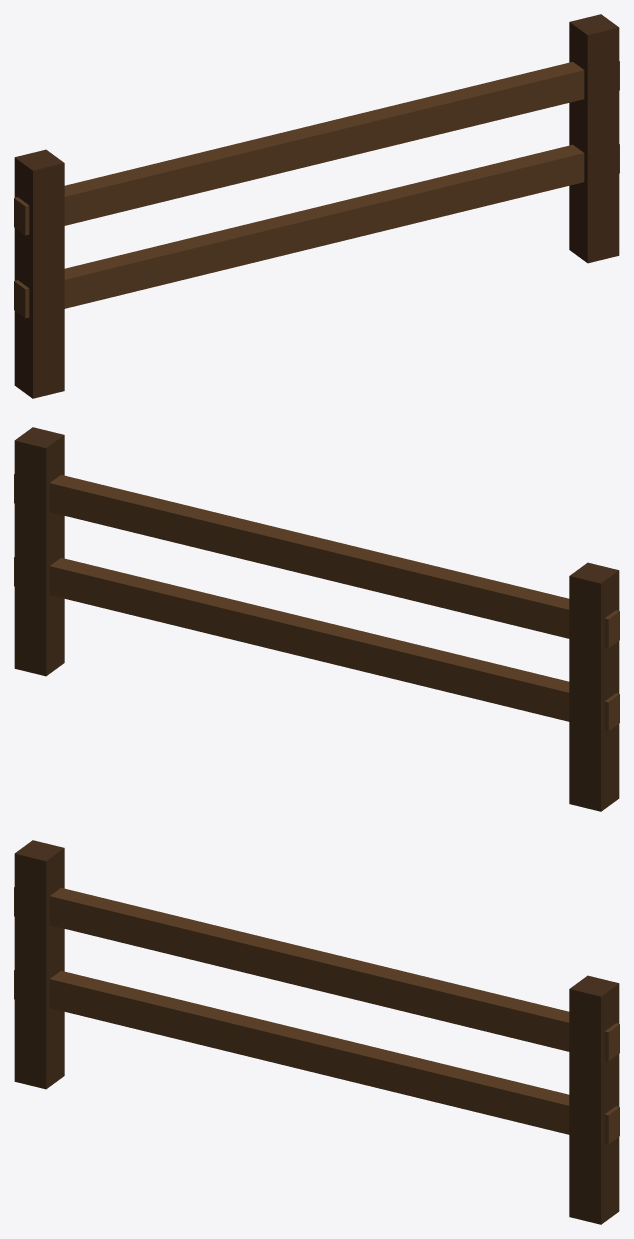
Rendered from prop_fence.glb.
The picture shows the model from 3 angles, top to bottom: view 1: azimuth 30°, elevation 25°; view 2: azimuth 150°, elevation 25°; view 3: azimuth 330°, elevation 25°; orthographic projection.
Visible parts, largest first — view 1: rail_low, rail_top, post_a, post_b; view 2: rail_low, rail_top, post_a, post_b; view 3: rail_low, rail_top, post_b, post_a.
Part boxes in pixels (x1=…): rail_low: x1=14, y1=144, x2=619, y2=318; rail_top: x1=14, y1=61, x2=619, y2=235; post_a: x1=14, y1=149, x2=64, y2=398; post_b: x1=569, y1=14, x2=619, y2=263; rail_low: x1=14, y1=557, x2=619, y2=731; rail_top: x1=14, y1=474, x2=619, y2=648; post_a: x1=569, y1=562, x2=619, y2=811; post_b: x1=14, y1=427, x2=64, y2=676; rail_low: x1=14, y1=970, x2=619, y2=1144; rail_top: x1=14, y1=887, x2=619, y2=1061; post_b: x1=569, y1=975, x2=619, y2=1224; post_a: x1=14, y1=840, x2=64, y2=1089.
Bounding box in the file's own units: 3 × 1.1 × 0.16.
